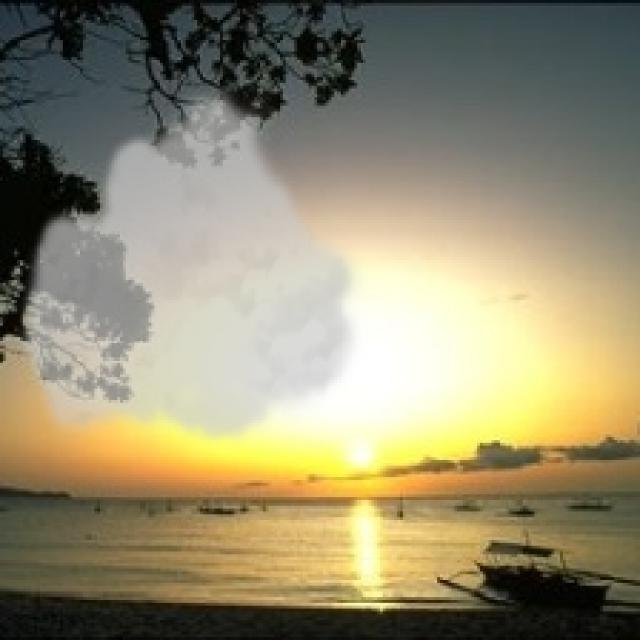Smoke: (17, 83, 369, 446)
